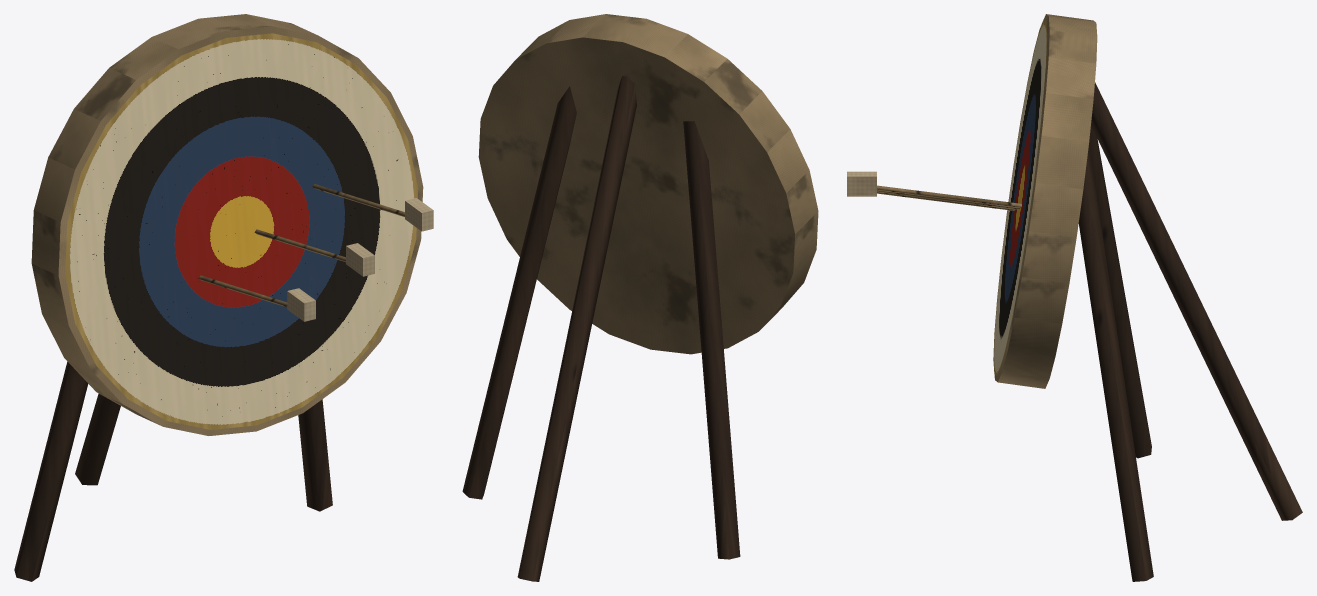
The model's file is archery_target.gltf.
3 renders of one model, left to right at view 1: azimuth 30°, elevation 25°; view 2: azimuth 150°, elevation 25°; view 3: azimuth 270°, elevation 25°, orthographic. The views are drawn at different scales.
Parts seen in each view (by area): view 1: archery_target_mesh; view 2: archery_target_mesh; view 3: archery_target_mesh.
Boxes of the visible parts, x1=… form: archery_target_mesh: x1=14, y1=14, x2=433, y2=581; archery_target_mesh: x1=462, y1=14, x2=818, y2=581; archery_target_mesh: x1=847, y1=14, x2=1302, y2=581.
Size of what is drawn, in the model's own units: 1.24 by 1.79 by 1.51.
Materials: 5 (5 with a texture image).
